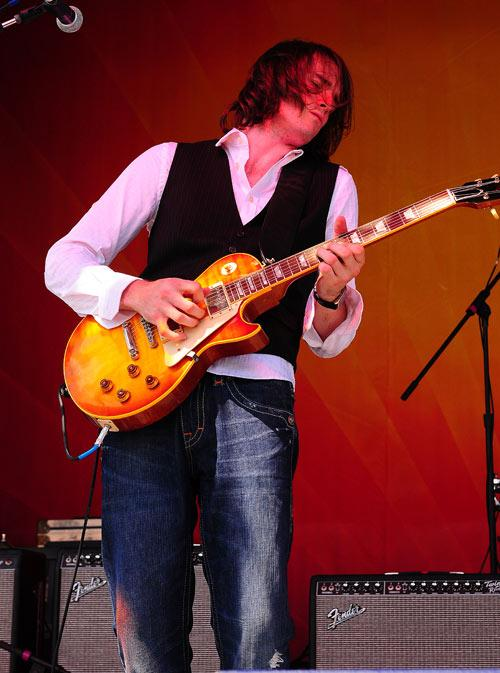person: (44, 37, 367, 671)
